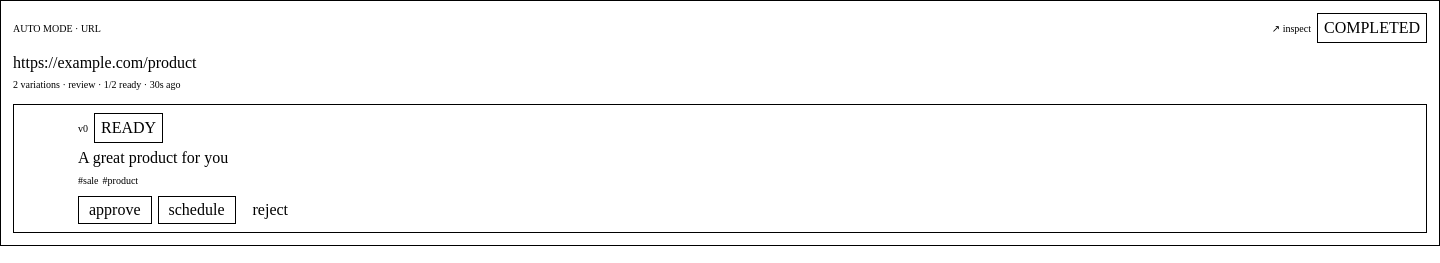
Test: AutoModePanel · approve / reject › shows "approved" text and hides buttons after successful approve
Click the button "approve".
click(115, 210)  # box [78, 196, 152, 224]
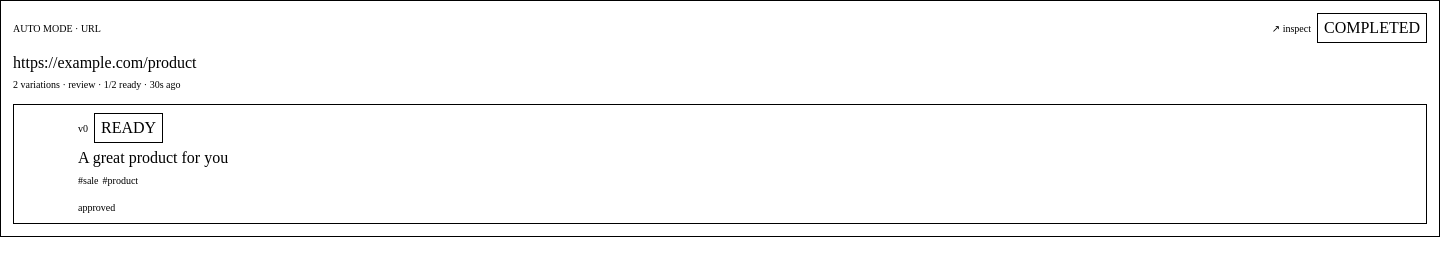
expect the text "approved" is shown: met, box [78, 202, 115, 213]
